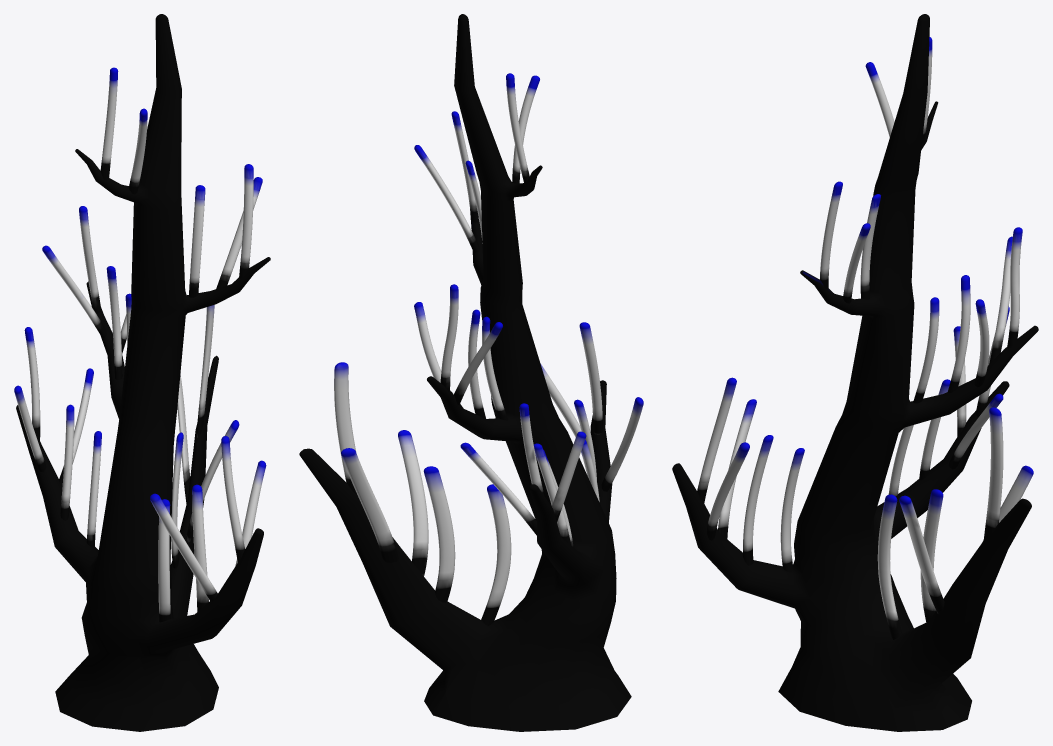
The model's file is SM_Tree_02.FBX.
3 renders of one model, left to right at view 1: azimuth 30°, elevation 25°; view 2: azimuth 150°, elevation 25°; view 3: azimuth 270°, elevation 25°, orthographic. The views are drawn at different scales.
Visible parts, largest first — view 1: arbre015; view 2: arbre015; view 3: arbre015.
Part boxes in pixels (box(x1,y1,x2,y2)): arbre015: box(14, 14, 270, 731); arbre015: box(299, 14, 643, 731); arbre015: box(672, 14, 1038, 731).
Bounding box in the file's own units: 39.48 × 103 × 49.01.
